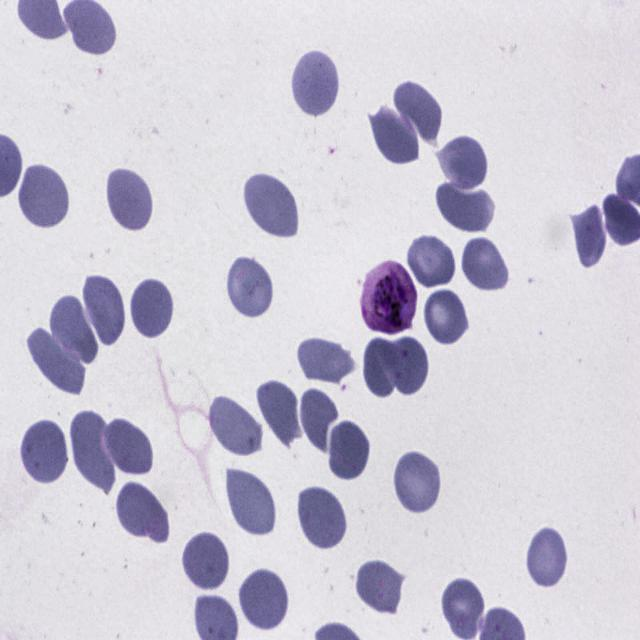red blood cell: (26, 326, 87, 398), (287, 46, 342, 118), (17, 161, 71, 230), (69, 409, 112, 495), (244, 170, 300, 236), (225, 466, 277, 536), (104, 163, 155, 234), (295, 483, 349, 550), (237, 564, 290, 632), (208, 392, 264, 456), (50, 292, 100, 363), (392, 448, 444, 516), (255, 379, 303, 452), (18, 416, 68, 486), (116, 478, 169, 544), (368, 100, 423, 163), (379, 333, 432, 398), (81, 272, 125, 348), (392, 79, 443, 144), (180, 526, 230, 592), (226, 255, 276, 320), (434, 133, 491, 190), (362, 334, 409, 403), (128, 274, 176, 341), (354, 557, 407, 617), (326, 416, 372, 483), (406, 231, 458, 290), (526, 522, 570, 591), (433, 181, 494, 230), (462, 234, 511, 294), (295, 336, 356, 384), (439, 577, 484, 640), (300, 387, 341, 456), (568, 198, 608, 268), (104, 418, 152, 476), (422, 287, 470, 345)
trophozoite: (359, 259, 418, 336)
